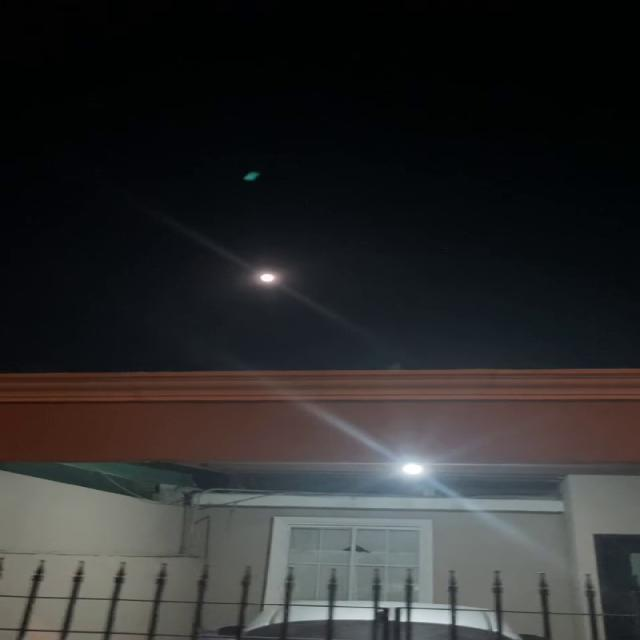moon: (251, 262, 292, 287)
